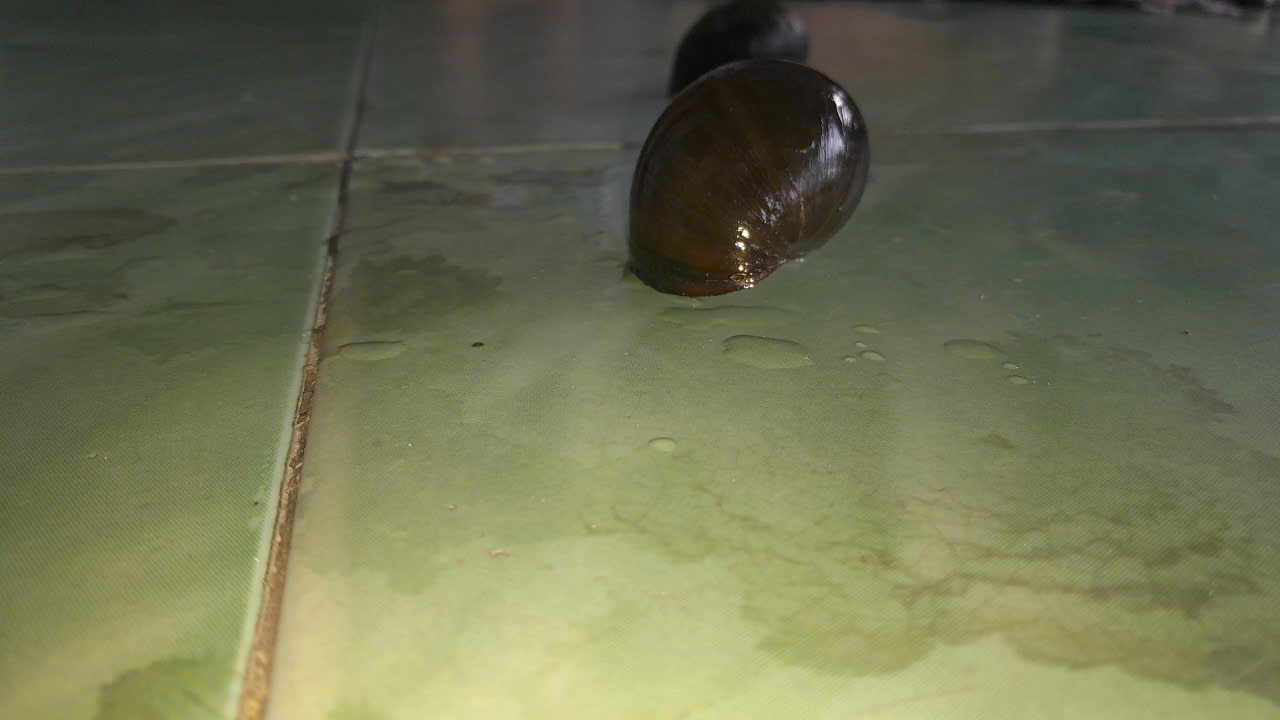oc_buou_vang: (591, 60, 891, 305)
